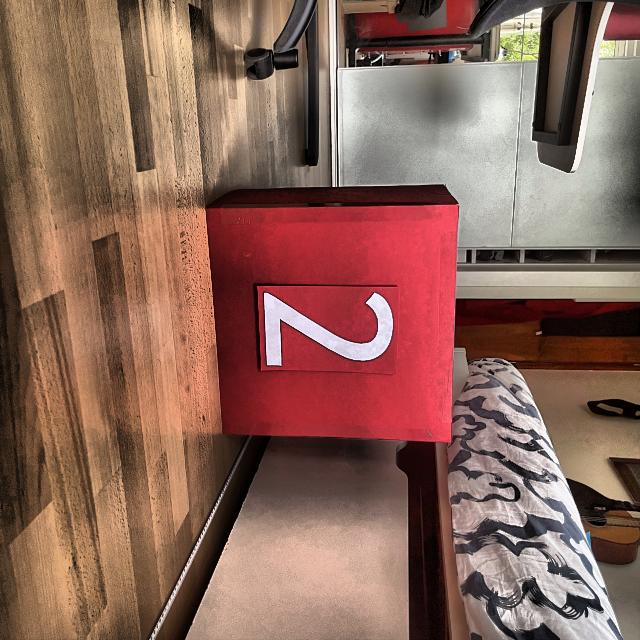red box: (216, 191, 445, 433)
two: (261, 289, 396, 369)
